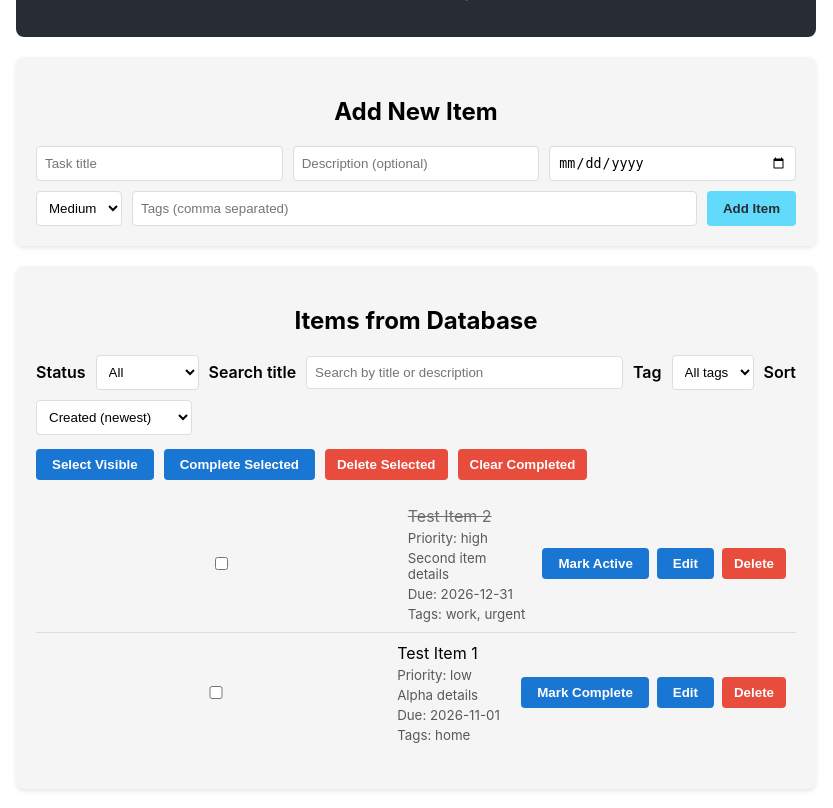
Test case: App Component › toggles an item to completed
(page scrolled)
Check: the text "Test Item 1" is shown, box [397,643,478,663]
Click the button "Mark Complete" at (585, 693), box [521,678,649,708]
(page scrolled)
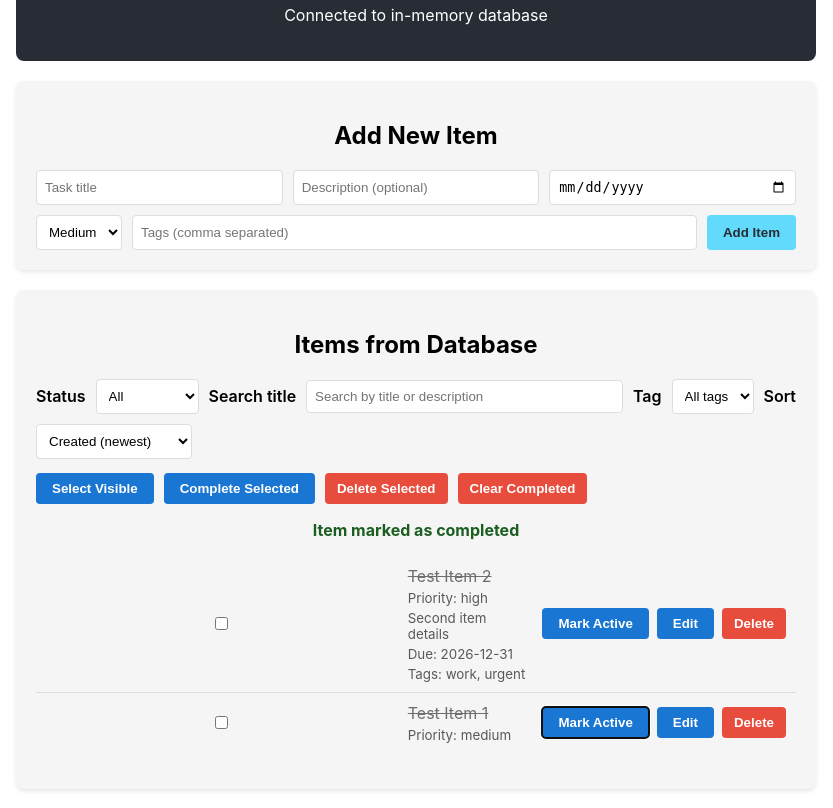
Check: the button "Mark Active" below "Test Item 2" is shown, box [542,608,649,640]
Check: the text "Item marked as completed" is shown, box [313,520,519,540]
